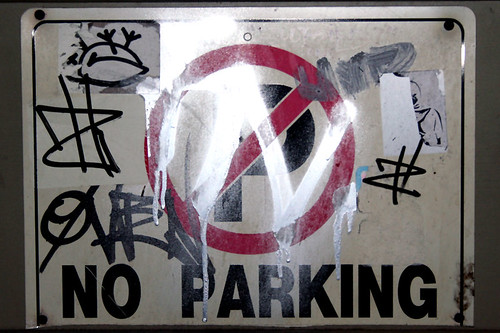graffiti: (41, 25, 197, 257), (366, 133, 425, 207)
sign: (28, 10, 473, 324)
